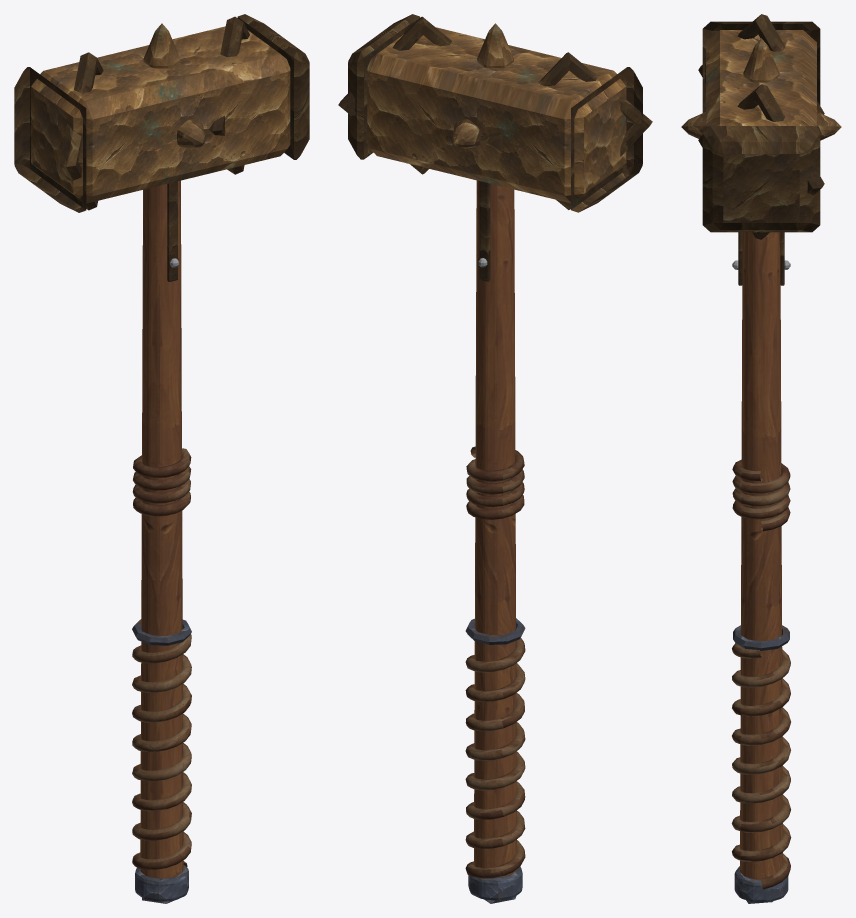
The model's file is mace_2h_bronze.glb.
The picture shows the model from 3 angles, left to right: view 1: azimuth 30°, elevation 25°; view 2: azimuth 150°, elevation 25°; view 3: azimuth 270°, elevation 25°; orthographic projection.
Parts seen in each view (by area): view 1: model; view 2: model; view 3: model.
Boxes of the visible parts, x1,y1,x2,y2 form: model: (14,14,309,903); model: (338,14,652,903); model: (681,14,841,903).
Size of the model in its own units: 0.4226 by 1.37 by 0.2322.
Materials: 9 (8 with a texture image).
